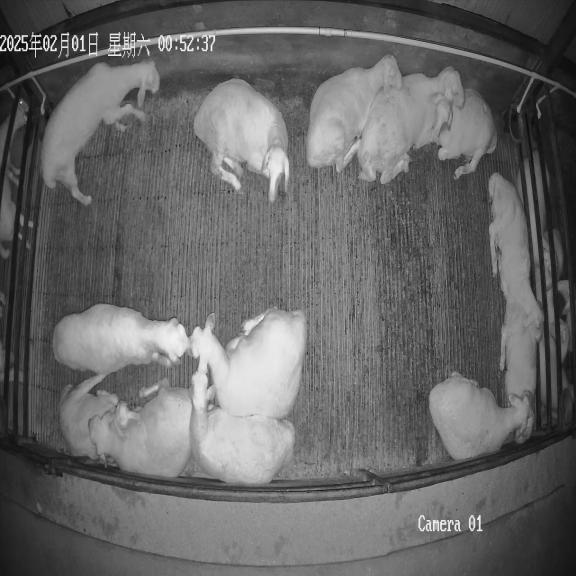lying: (190, 309, 307, 420), (189, 364, 295, 483), (357, 67, 463, 183), (194, 79, 289, 201), (306, 55, 403, 173), (52, 303, 190, 380), (89, 379, 192, 477), (429, 372, 530, 460), (488, 173, 541, 327), (500, 302, 541, 443), (433, 89, 497, 179), (59, 376, 119, 459)
stand: (41, 61, 160, 206)
